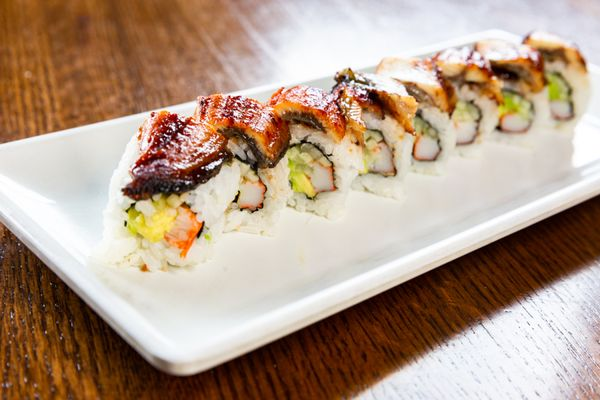curry: (3, 1, 600, 382)
